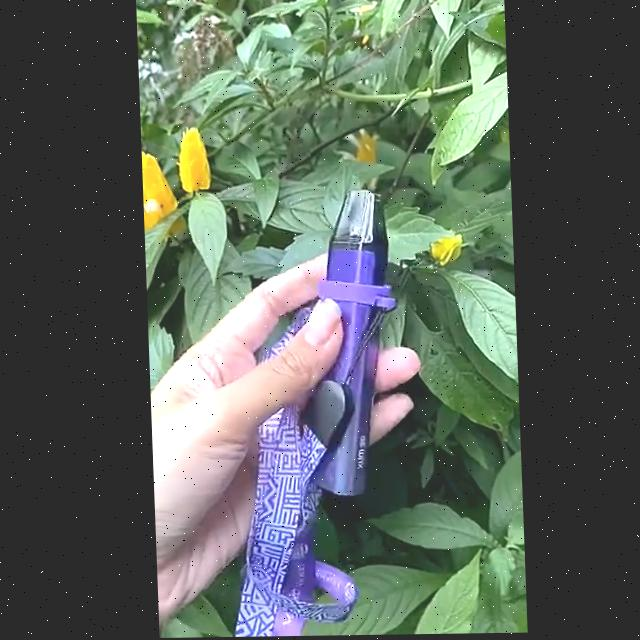vape: (288, 190, 400, 497)
